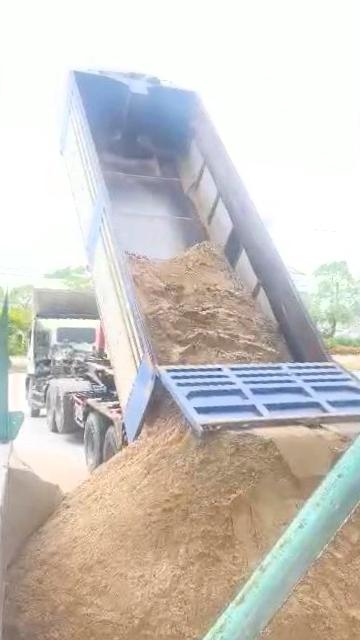sand: (6, 407, 344, 640), (206, 508, 360, 640), (129, 243, 288, 364), (2, 455, 66, 557), (148, 383, 176, 423)
